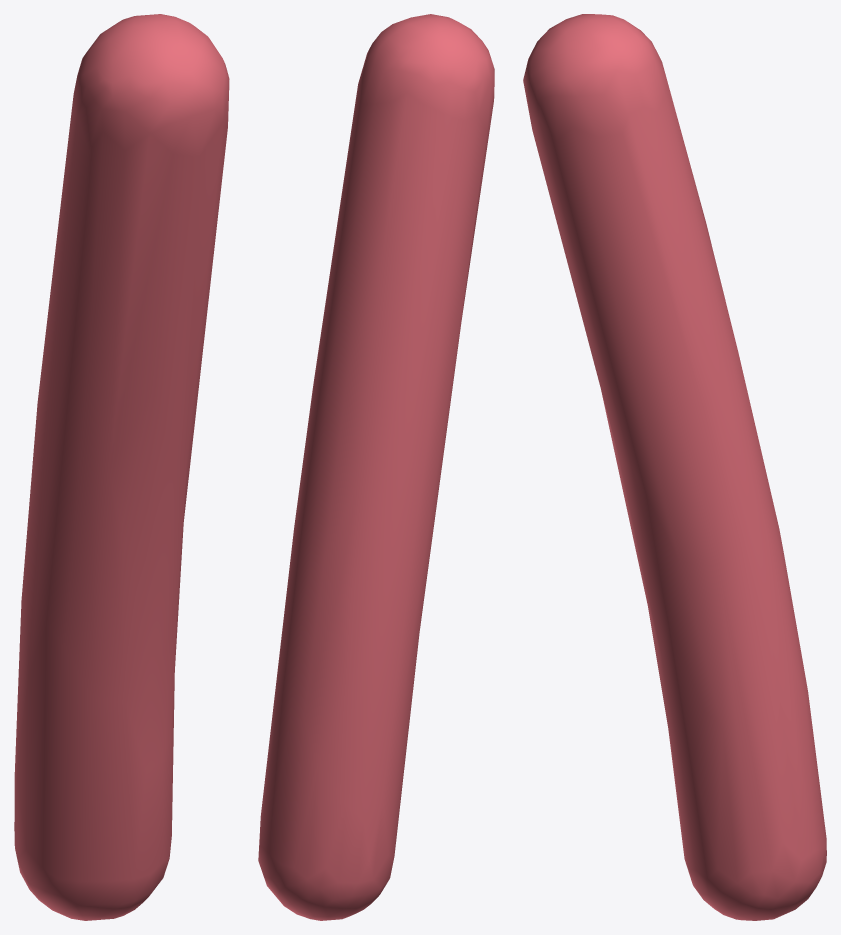
Rendered from fma23115_fj2247.glb.
The picture shows the model from 3 angles, left to right: view 1: azimuth 30°, elevation 25°; view 2: azimuth 150°, elevation 25°; view 3: azimuth 270°, elevation 25°; orthographic projection. The views are drawn at different scales.
Parts seen in each view (by area): view 1: FMA23115_FJ2247; view 2: FMA23115_FJ2247; view 3: FMA23115_FJ2247.
Boxes of the visible parts, box(x1,y1,x2,y2) form: FMA23115_FJ2247: box(14, 14, 229, 920); FMA23115_FJ2247: box(258, 14, 494, 920); FMA23115_FJ2247: box(523, 14, 826, 920).
Size of the model in its own units: 0.00353 by 0.0201 by 0.00627.
